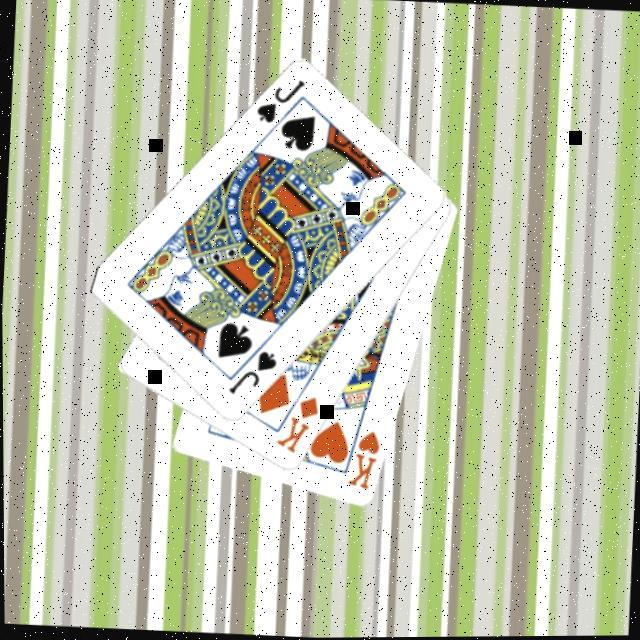JS: (223, 346, 280, 400), (251, 74, 308, 128)
KD: (270, 392, 322, 458)
KH: (342, 426, 382, 494)
